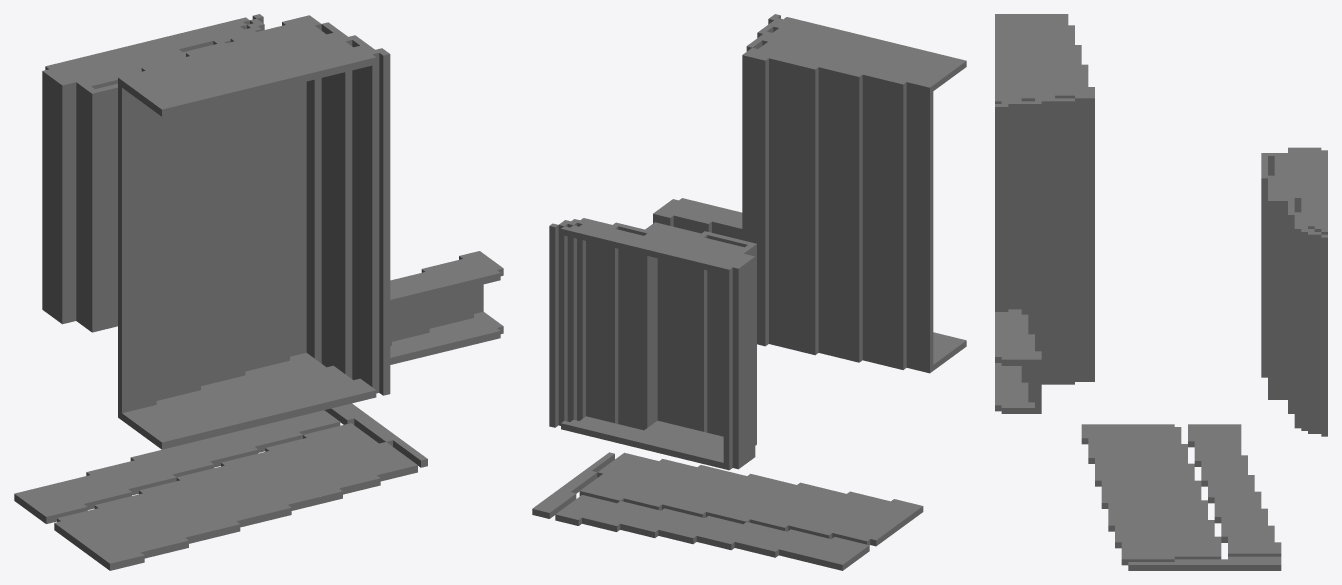
The model's file is tile_1_4.glb.
3 renders of one model, left to right at view 1: azimuth 30°, elevation 25°; view 2: azimuth 150°, elevation 25°; view 3: azimuth 270°, elevation 25°, orthographic. The views are drawn at different scales.
Visible parts, largest first — view 1: universal_minecraft:concrete:south, universal_minecraft:concrete:up, universal_minecraft:concrete:west, universal_minecraft:stained_terracotta:up, universal_minecraft:grass_block:up, universal_minecraft:stained_terracotta:south, universal_minecraft:grass_block:south; view 2: universal_minecraft:concrete:north, universal_minecraft:concrete:up, universal_minecraft:concrete:west, universal_minecraft:stained_terracotta:up, universal_minecraft:grass_block:up, universal_minecraft:stained_terracotta:north, universal_minecraft:grass_block:north; view 3: universal_minecraft:concrete:east, universal_minecraft:concrete:up, universal_minecraft:stained_terracotta:up, universal_minecraft:grass_block:up, universal_minecraft:stained_terracotta:east.
Boxes of the visible parts, bbox=[...] form: universal_minecraft:concrete:south: bbox=[46, 17, 483, 570]; universal_minecraft:concrete:up: bbox=[14, 14, 483, 563]; universal_minecraft:concrete:west: bbox=[14, 16, 462, 570]; universal_minecraft:stained_terracotta:up: bbox=[52, 17, 503, 299]; universal_minecraft:grass_block:up: bbox=[122, 311, 503, 442]; universal_minecraft:stained_terracotta:south: bbox=[91, 20, 503, 306]; universal_minecraft:grass_block:south: bbox=[162, 326, 503, 449]; universal_minecraft:concrete:north: bbox=[532, 19, 929, 570]; universal_minecraft:concrete:up: bbox=[532, 14, 932, 564]; universal_minecraft:concrete:west: bbox=[549, 15, 933, 570]; universal_minecraft:stained_terracotta:up: bbox=[561, 17, 966, 268]; universal_minecraft:grass_block:up: bbox=[561, 332, 966, 462]; universal_minecraft:stained_terracotta:north: bbox=[561, 26, 778, 274]; universal_minecraft:grass_block:north: bbox=[561, 423, 723, 468]; universal_minecraft:concrete:east: bbox=[995, 98, 1327, 570]; universal_minecraft:concrete:up: bbox=[995, 14, 1327, 564]; universal_minecraft:stained_terracotta:up: bbox=[995, 14, 1327, 359]; universal_minecraft:grass_block:up: bbox=[995, 363, 1034, 407]; universal_minecraft:stained_terracotta:east: bbox=[995, 95, 1327, 365].
Bounding box in the file's own units: 50 × 69 × 50.
18 materials, 18 textured.
